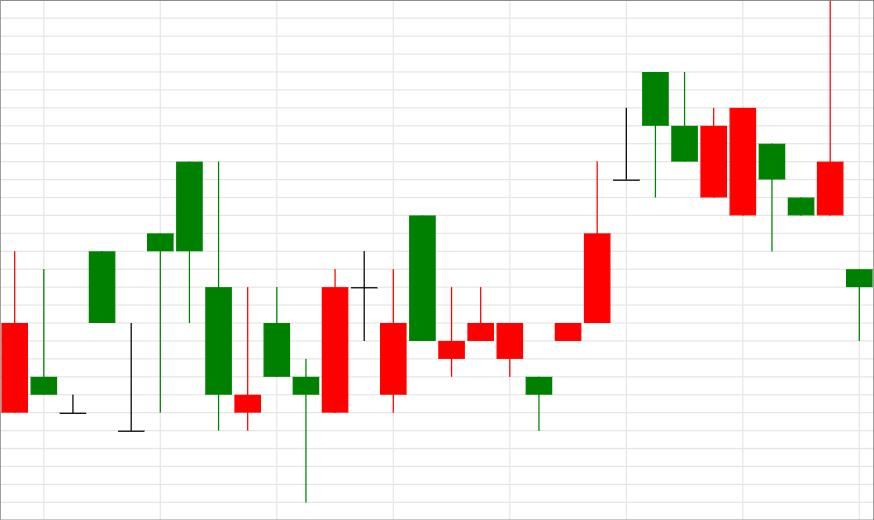hanging_man_fall: (526, 72, 669, 431)
